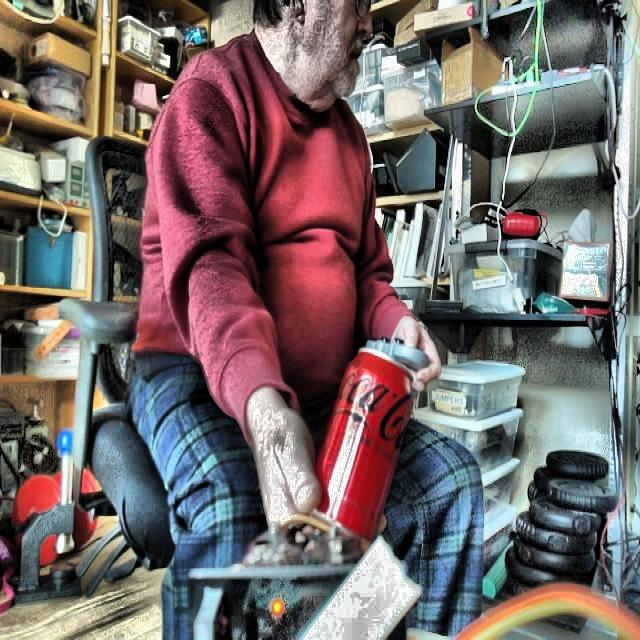CokeZero-can: (300, 344, 418, 552)
